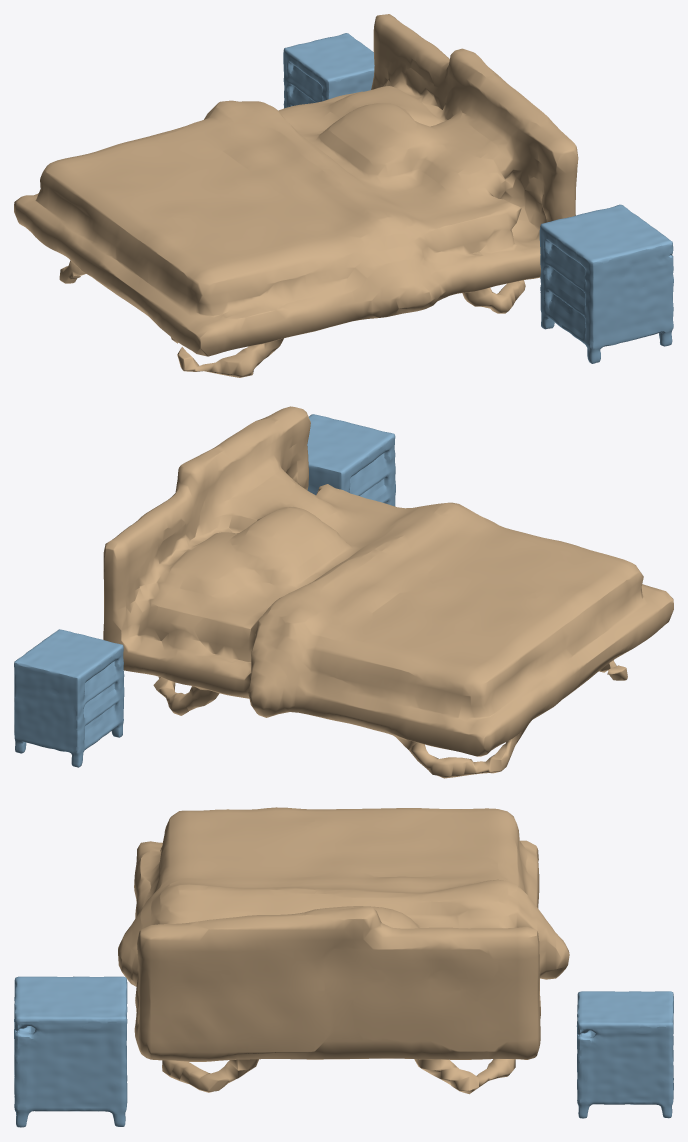
The model's file is SecondBedroom-30034_echoscene.glb.
3 views of the same model, one above another, from view 1: azimuth 30°, elevation 25°; view 2: azimuth 150°, elevation 25°; view 3: azimuth 270°, elevation 25° (orthographic). The views are drawn at different scales.
Parts seen in each view (by area): view 1: world; view 2: world; view 3: world.
Part boxes in pixels (x1,y1,x2,y2): world: (14, 14, 673, 377); world: (14, 406, 673, 778); world: (14, 807, 673, 1127).
Size of the model in its own units: 2.42 by 1.03 by 3.12.
